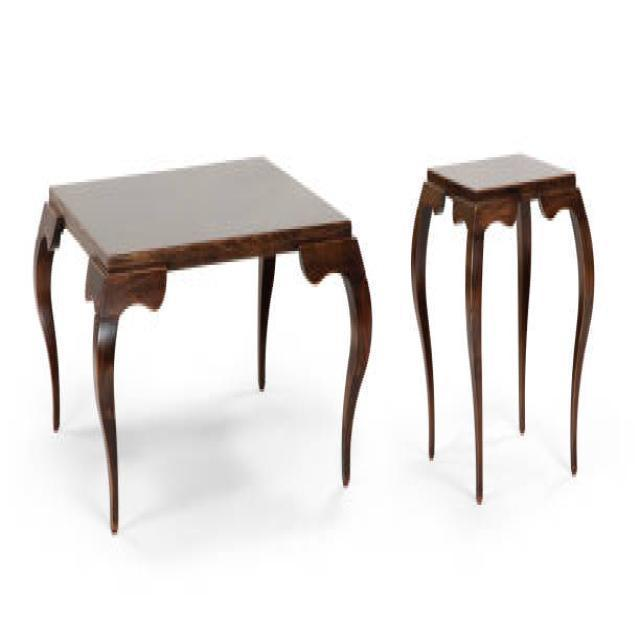table: (32, 152, 372, 532), (410, 149, 594, 502)
